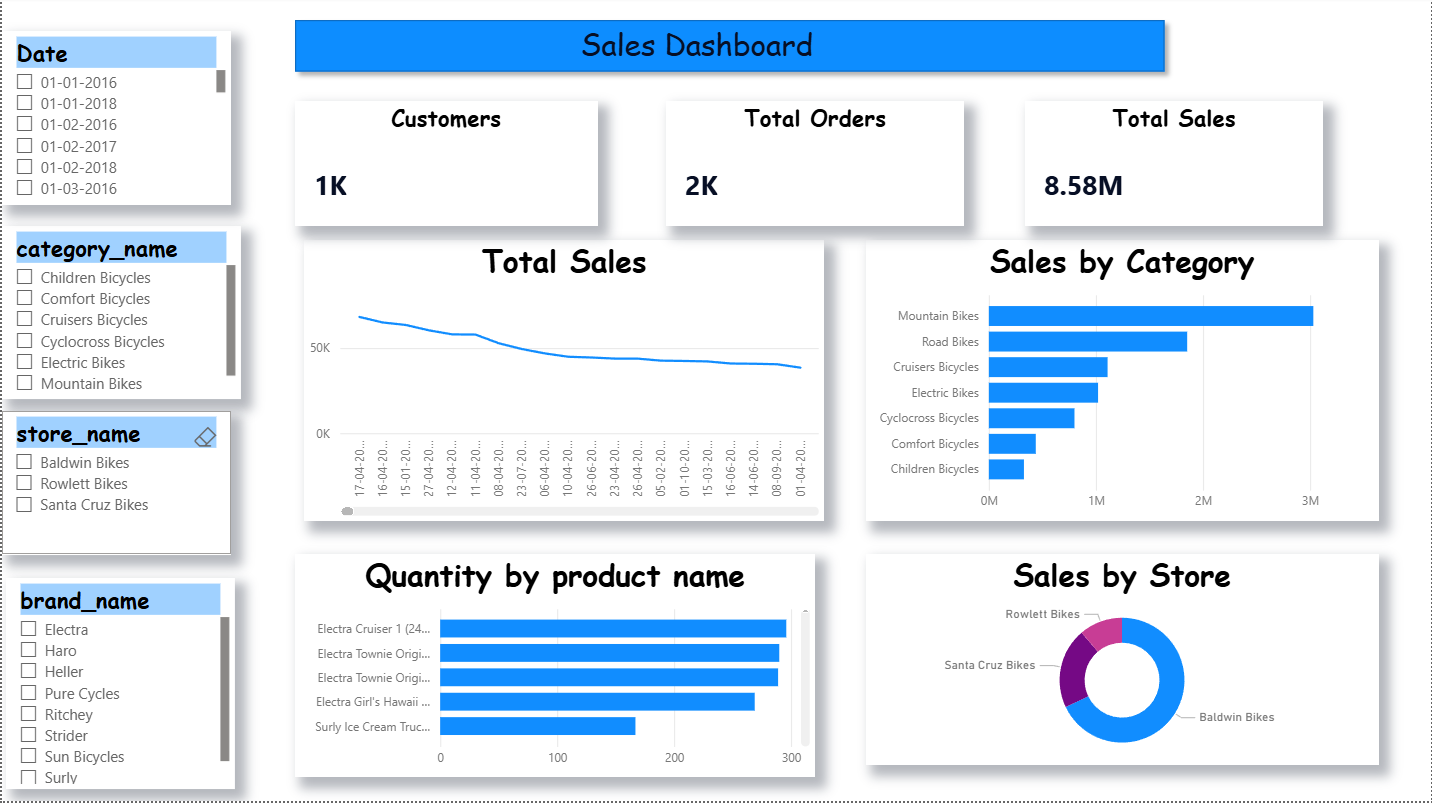

Layout of this report page (visuals, bound fields, positions):
{"tool":"powerbi","page":{"name":"Page 1","canvas":[1280,720],"ordinal":0},"visuals":[{"type":"cardVisual","title":"Total Sales","fields":{"Data":["reatail_analysis order_items.Total Sales Test"]},"box":[915.9,93.2,267.1,112.1],"z":0},{"type":"cardVisual","title":"Total Orders","fields":{"Data":["reatail_analysis orders.Total Orders"]},"box":[594.6,93.2,267.1,112.1],"z":1000},{"type":"cardVisual","title":"Customers","fields":{"Data":["reatail_analysis customers.Total Customers"]},"box":[262,93.2,270.9,112.1],"z":2000},{"type":"shape","box":[253.4,11.8,796.7,64.2],"z":3000},{"type":"textbox","box":[471.2,18.9,302.4,50.4],"z":4000},{"type":"lineChart","title":"Total Sales ","fields":{"Category":["reatail_analysis orders.order_date"],"Y":["reatail_analysis order_items.Total Sales Test"]},"box":[270.9,218,466.1,252],"z":5000},{"type":"clusteredBarChart","title":"Sales by Category ","fields":{"Category":["reatail_analysis categories.category_name"],"Y":["reatail_analysis order_items.Total Sales Test"]},"box":[773.5,218,458.6,252],"z":6000},{"type":"barChart","title":"Quantity by product name","fields":{"Category":["reatail_analysis products.product_name"],"Y":["Sum(reatail_analysis order_items.quantity)"]},"box":[262,498.9,466.1,200.3],"z":7000},{"type":"donutChart","title":"Sales by Store","fields":{"Category":["reatail_analysis stores.store_name"],"Y":["reatail_analysis order_items.Total Sales Test"]},"box":[773.5,498.9,458.6,189],"z":8000},{"type":"slicer","fields":{"Values":["reatail_analysis categories.category_name"]},"box":[0,205.4,214.2,155],"z":9000},{"type":"slicer","fields":{"Values":["reatail_analysis stores.store_name"]},"box":[0,370.4,205.4,128.5],"z":10000},{"type":"slicer","fields":{"Values":["reatail_analysis brands.brand_name"]},"box":[3.8,520.3,205.4,189],"z":11000},{"type":"slicer","fields":{"Values":["reatail_analysis orders.order_date"]},"box":[0,30.2,205.4,156.2],"z":12000}]}

Visuals, with their boxes in screenshot pixels (x1, y1, x2, y2), scaled from the page's 1280x720 canvas onto the 1432x803 screenshot:
"Total Sales" cardVisual: pyautogui.locateOnScreen(1025, 104, 1323, 229)
"Total Orders" cardVisual: pyautogui.locateOnScreen(665, 104, 964, 229)
"Customers" cardVisual: pyautogui.locateOnScreen(293, 104, 596, 229)
shape: pyautogui.locateOnScreen(283, 13, 1175, 85)
textbox: pyautogui.locateOnScreen(527, 21, 865, 77)
"Total Sales " lineChart: pyautogui.locateOnScreen(303, 243, 825, 524)
"Sales by Category " clusteredBarChart: pyautogui.locateOnScreen(865, 243, 1378, 524)
"Quantity by product name" barChart: pyautogui.locateOnScreen(293, 556, 815, 780)
"Sales by Store" donutChart: pyautogui.locateOnScreen(865, 556, 1378, 767)
slicer - reatail_analysis categories.category_name: pyautogui.locateOnScreen(0, 229, 240, 402)
slicer - reatail_analysis stores.store_name: pyautogui.locateOnScreen(0, 413, 230, 556)
slicer - reatail_analysis brands.brand_name: pyautogui.locateOnScreen(4, 580, 234, 791)
slicer - reatail_analysis orders.order_date: pyautogui.locateOnScreen(0, 34, 230, 208)
